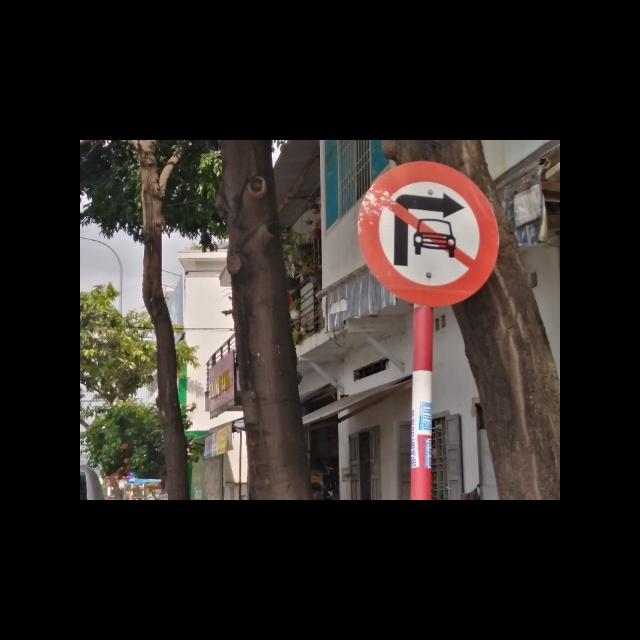Cấm xe ô tô rẽ trái: (352, 160, 499, 307)
